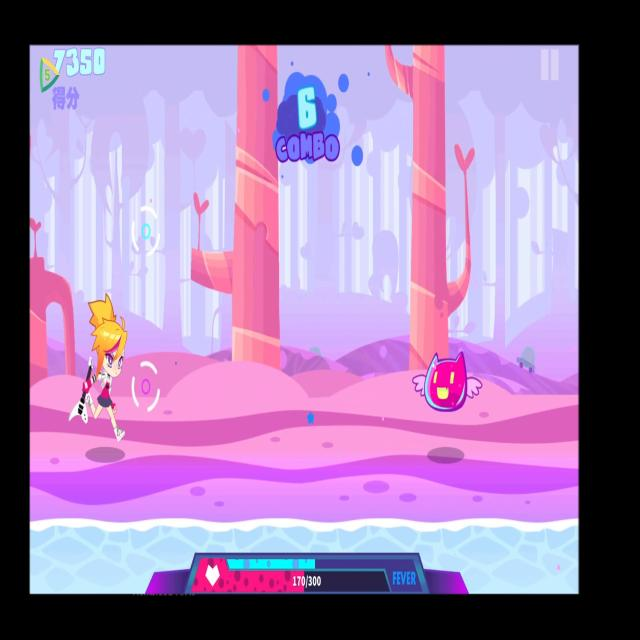mao: (411, 336, 489, 418)
